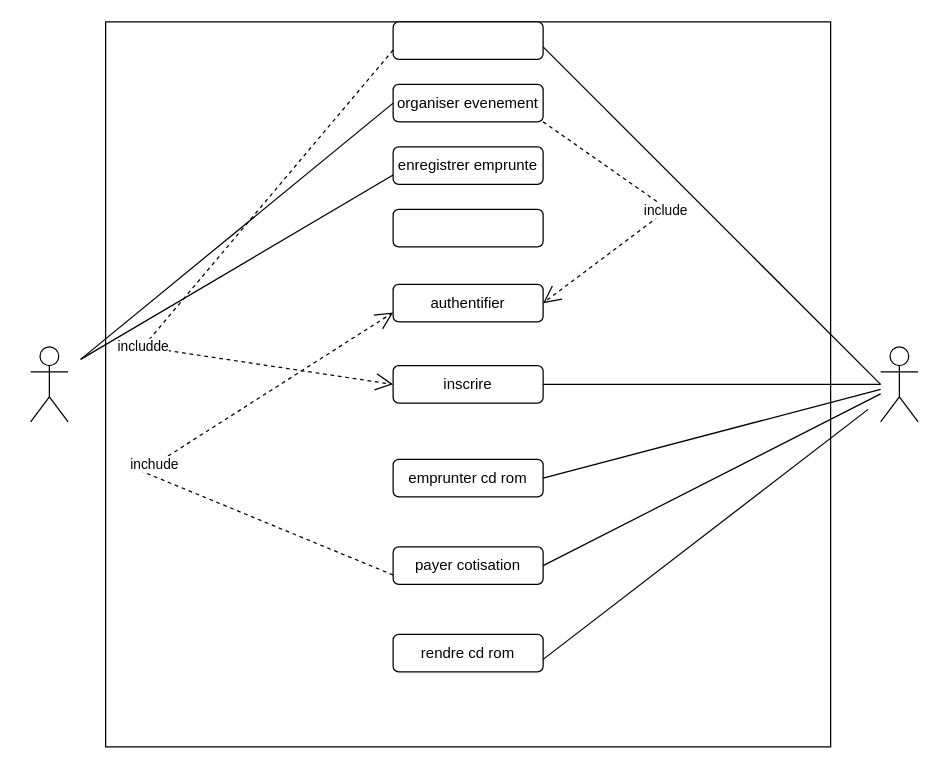
Image size: 950x769. Some labels were removed from this diagram. Each missing label, with the centre of its shape:
"adherent" goes at (x=898, y=384).
"employé" goes at (x=48, y=384).
"reserver cd rom" goes at (x=467, y=227).
"verifier disponibilite" goes at (x=467, y=40).
